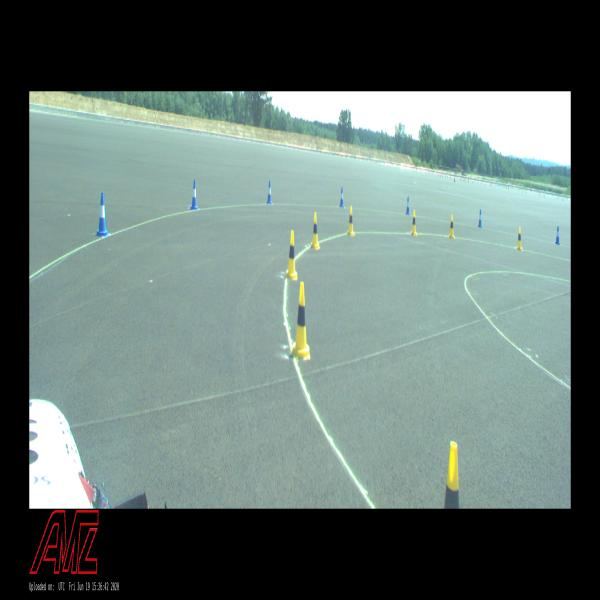blue_cone: (95, 192, 109, 237), (190, 180, 198, 210), (267, 182, 272, 204), (339, 187, 344, 207), (555, 226, 560, 244), (406, 196, 410, 215), (478, 210, 482, 228)
yellow_cone: (292, 282, 311, 360), (444, 442, 459, 508), (286, 231, 297, 279), (310, 213, 320, 249), (346, 206, 354, 236), (410, 210, 418, 236), (448, 215, 455, 238), (516, 227, 522, 250)
